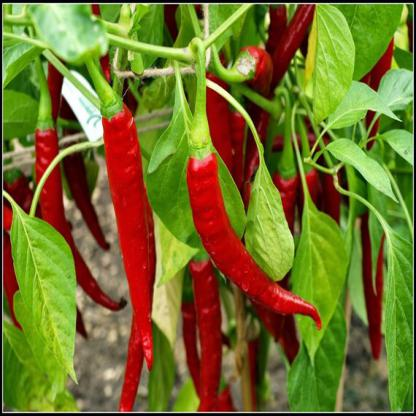chili: (191, 149, 326, 328), (99, 102, 156, 374), (186, 254, 227, 408)
